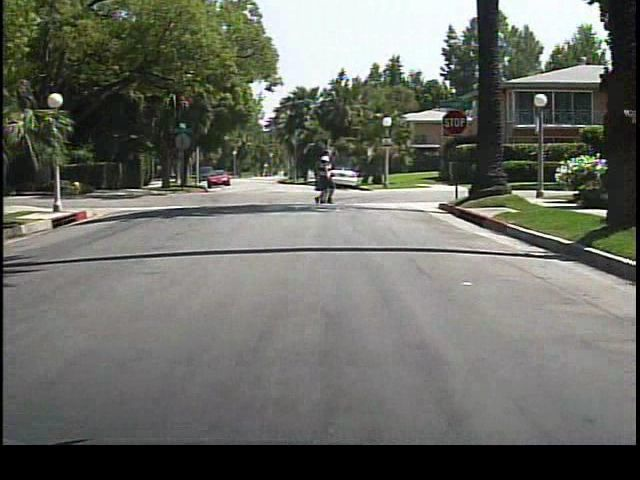person: (310, 148, 335, 206)
